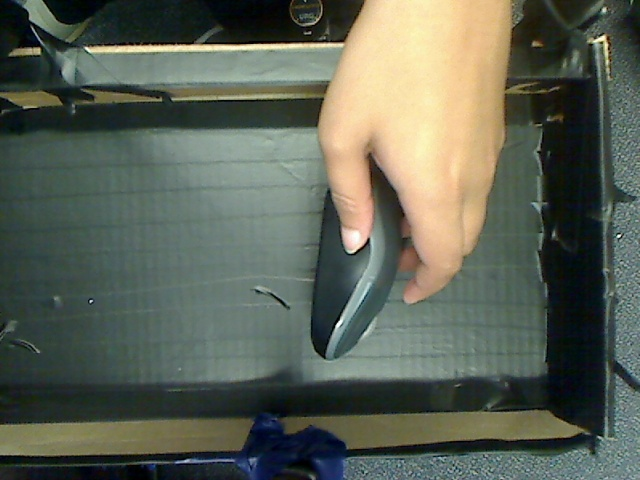mouse: (300, 137, 419, 382)
